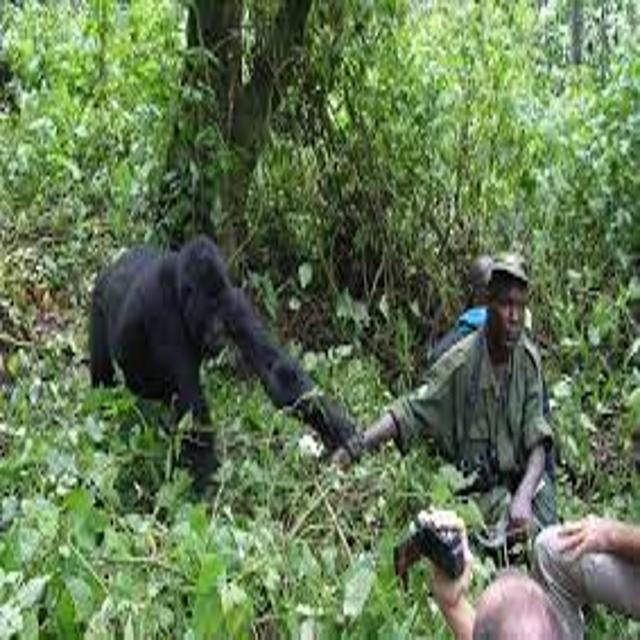poacher: (304, 229, 619, 563)
